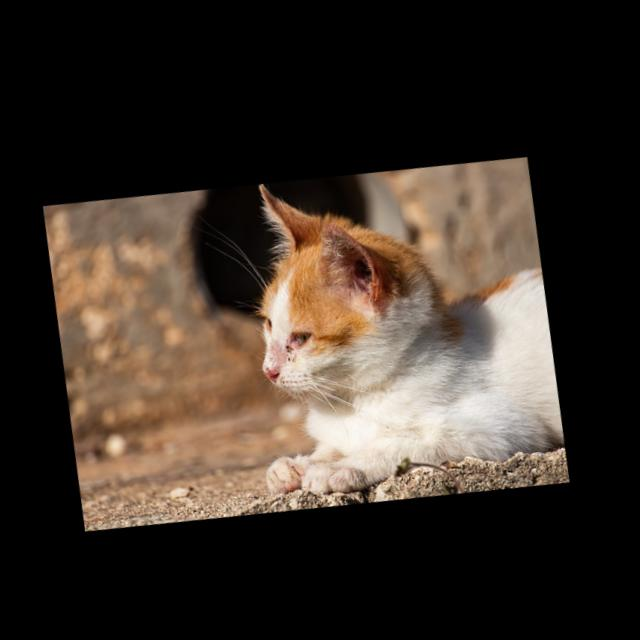animals: (218, 131, 582, 512)
